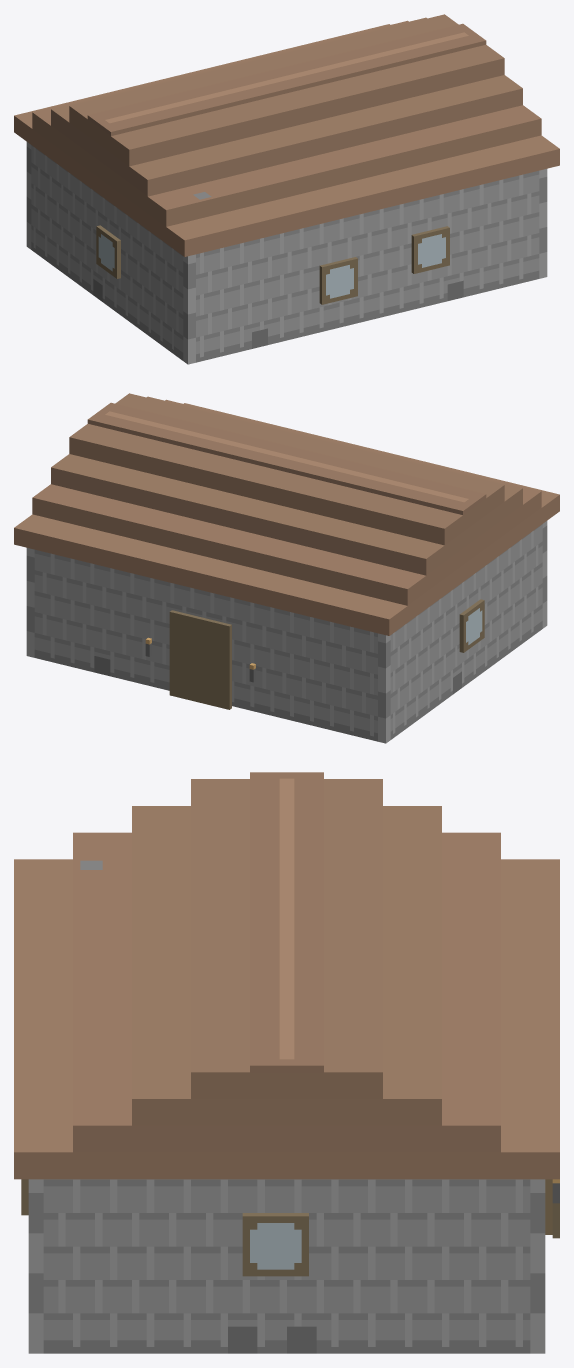
File: gran_herreria_02.glb
3 views of the same model, one above another, from view 1: azimuth 30°, elevation 25°; view 2: azimuth 150°, elevation 25°; view 3: azimuth 270°, elevation 25° (orthographic). The views are drawn at different scales.
Parts seen in each view (by area): view 1: gran_herreria_02; view 2: gran_herreria_02; view 3: gran_herreria_02.
Boxes of the visible parts, x1,y1,x2,y2 form: gran_herreria_02: (14, 14, 559, 364); gran_herreria_02: (14, 393, 559, 743); gran_herreria_02: (14, 772, 559, 1353).
Size of the model in its own units: 9.4 by 4.4 by 7.4.
